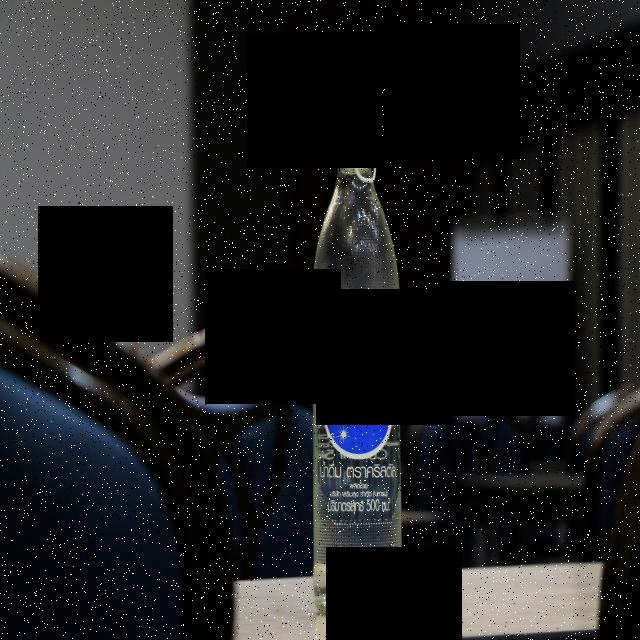glass-bottle: (299, 99, 415, 637)
